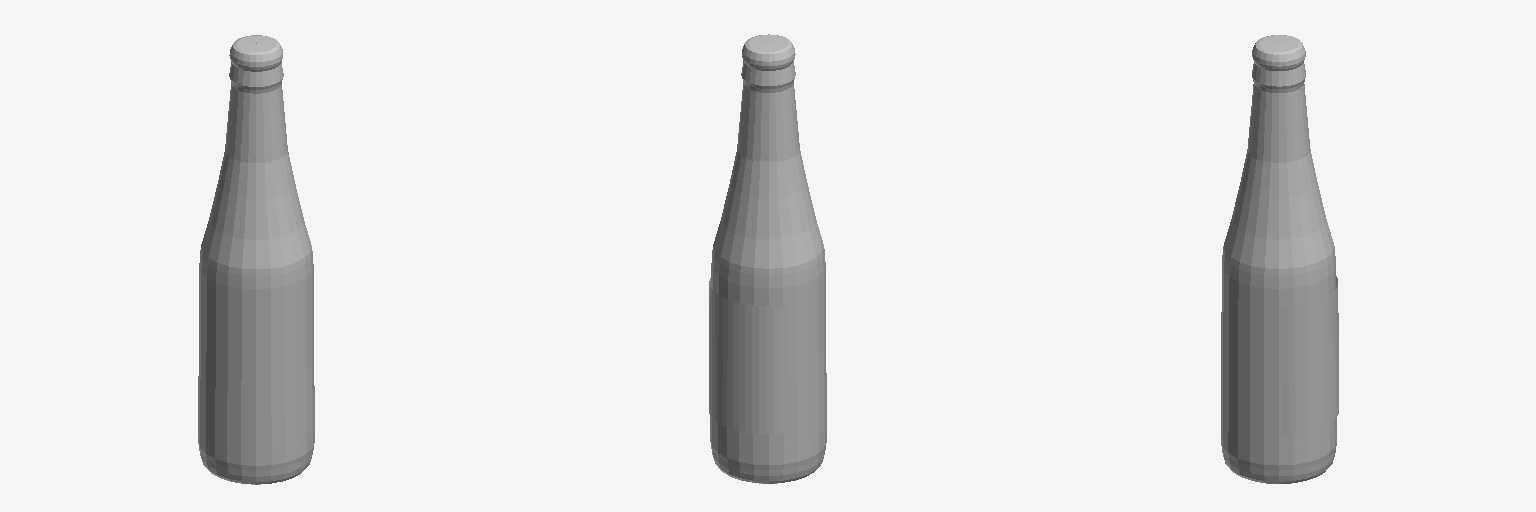
File: tripel karmeliet.obj
3 renders of one model, left to right at view 1: azimuth 30°, elevation 25°; view 2: azimuth 150°, elevation 25°; view 3: azimuth 270°, elevation 25°, orthographic.
Parts seen in each view (by area): view 1: Lathe.000_Lathe.012, Lathe.011; view 2: Lathe.000_Lathe.012, Plane.005, Lathe.011; view 3: Lathe.000_Lathe.012, Plane.005, Lathe.011.
Part boxes in pixels (bbox=[...]): Lathe.000_Lathe.012: bbox=[198, 35, 314, 484]; Lathe.011: bbox=[198, 35, 314, 484]; Lathe.000_Lathe.012: bbox=[710, 34, 826, 483]; Plane.005: bbox=[709, 278, 786, 433]; Lathe.011: bbox=[710, 35, 826, 483]; Lathe.000_Lathe.012: bbox=[1221, 35, 1336, 483]; Plane.005: bbox=[1281, 276, 1338, 434]; Lathe.011: bbox=[1221, 35, 1336, 483].
Bounding box in the file's own units: 0.1579 × 0.6342 × 0.1605.